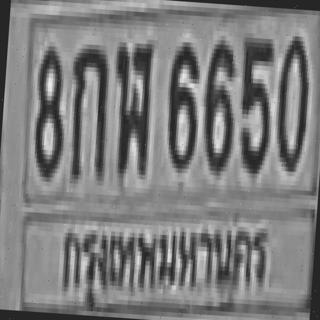A01: (65, 41, 111, 178)
A42: (108, 39, 153, 172)
N00: (272, 31, 310, 168)
N05: (234, 35, 273, 172)
N06: (199, 35, 236, 172), (163, 36, 200, 169)
N08: (31, 43, 68, 176)
P04: (49, 205, 273, 320)
